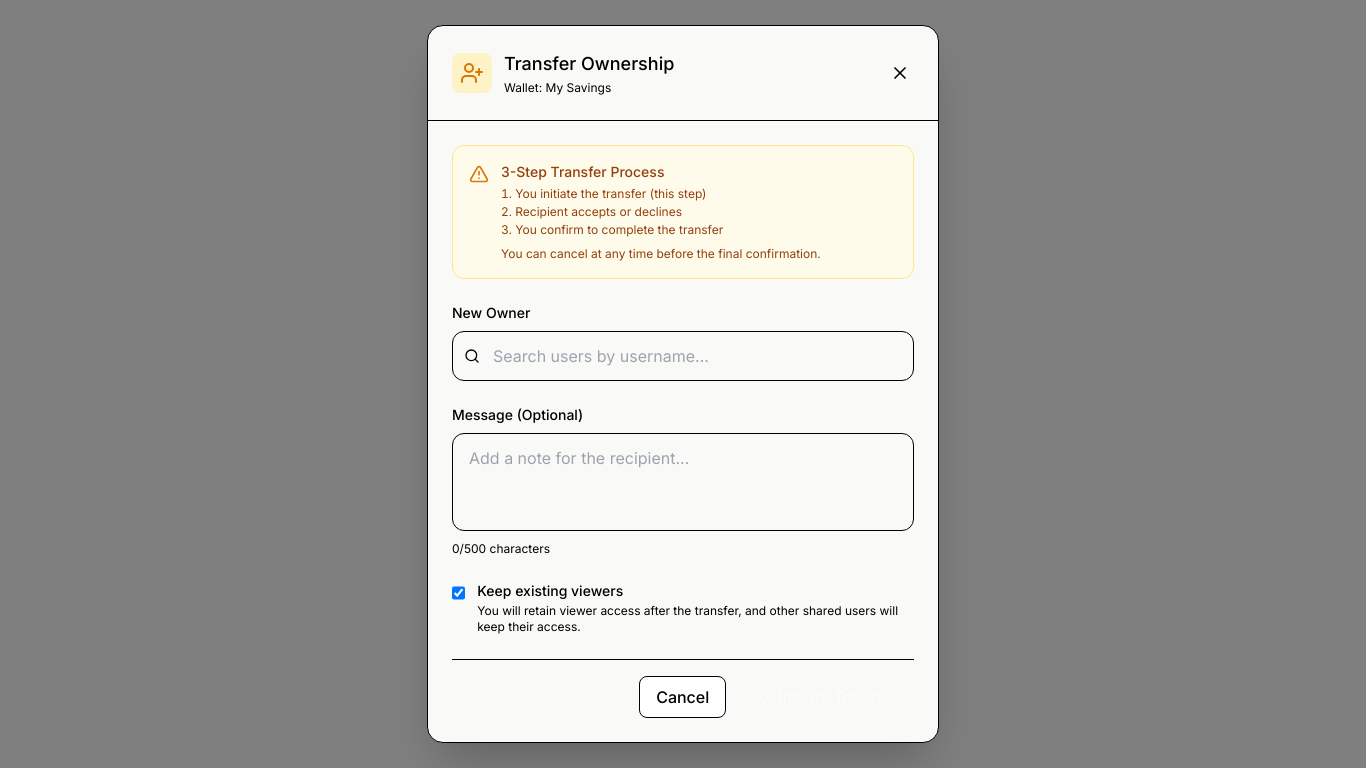
Test: TransferOwnershipModal › user selection › selects user when clicking search result
The image size is (1366, 768).
In the field with placeholder "Search users by username...": (683, 356) [452,331,914,381], type "alice"
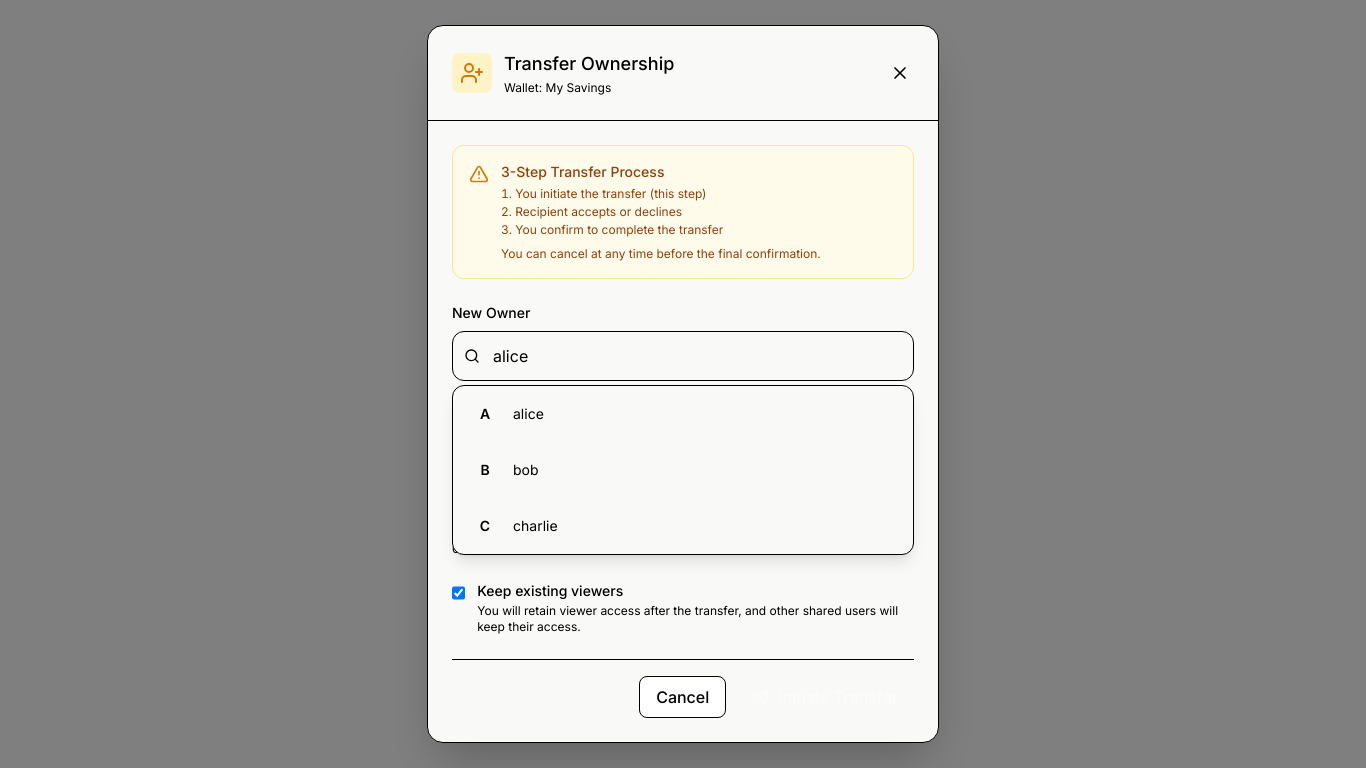
Check: the text "alice" is shown
Click the text "alice": (528, 414) [513,404,544,424]
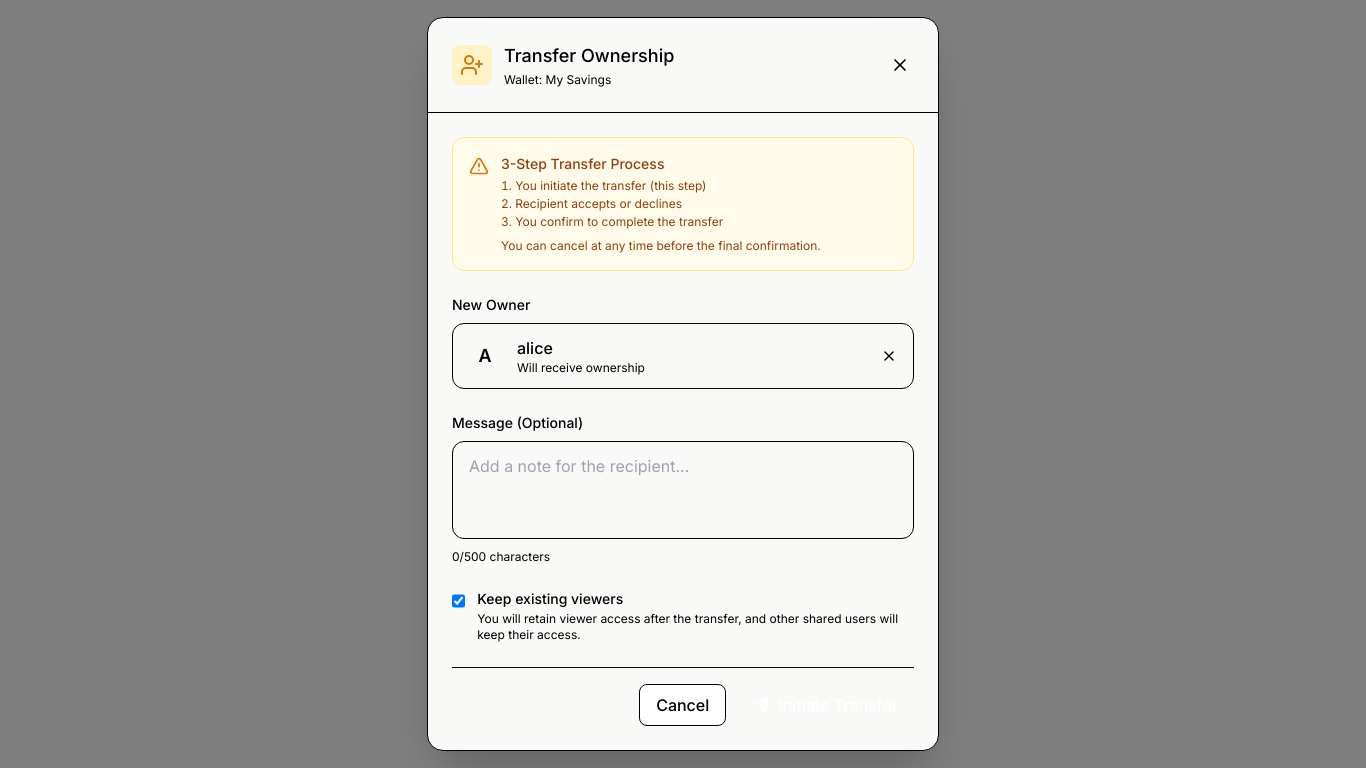
Check: the text "Will receive ownership" is shown, box [517,360,645,376]
